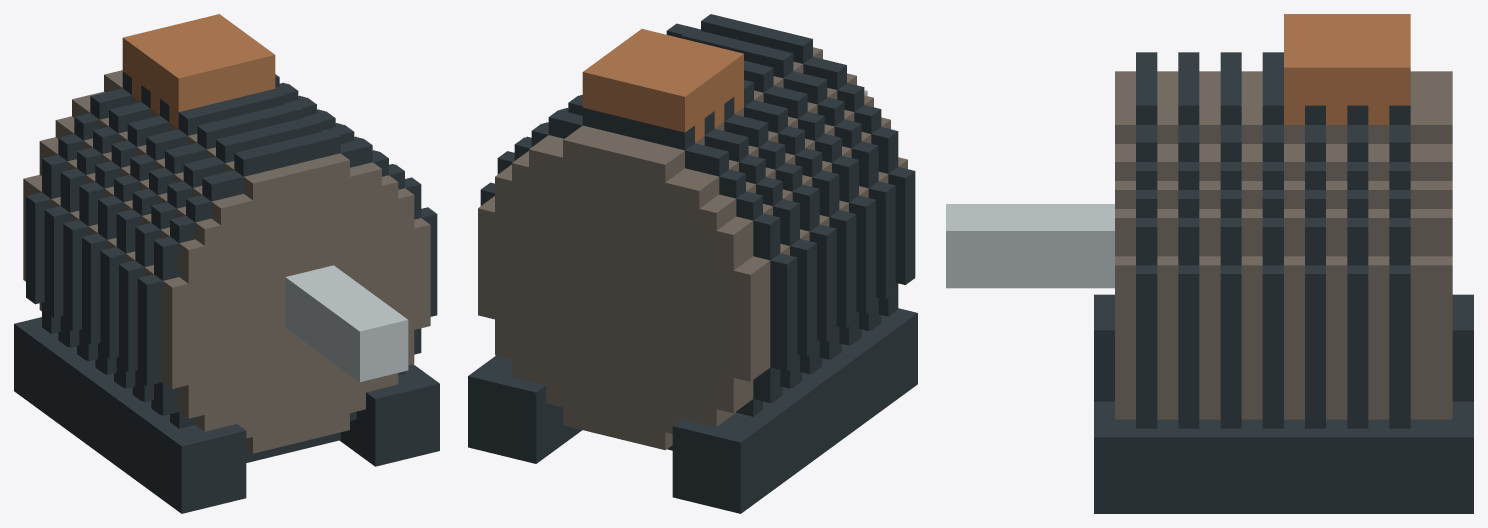
Rendered from motor.glb.
3 renders of one model, left to right at view 1: azimuth 30°, elevation 25°; view 2: azimuth 150°, elevation 25°; view 3: azimuth 270°, elevation 25°, orthographic. The views are drawn at different scales.
Parts seen in each view (by area): view 1: motor/housing, motor/shaft; view 2: motor/housing; view 3: motor/housing, motor/shaft.
Part boxes in pixels (x1,y1,x2,y2): motor/housing: [14, 14, 439, 513]; motor/shaft: [285, 265, 408, 381]; motor/housing: [468, 14, 917, 513]; motor/housing: [1094, 14, 1473, 513]; motor/shaft: [946, 204, 1114, 288].
Size of the model in its own units: 0.5625 by 0.6562 by 0.7812.
